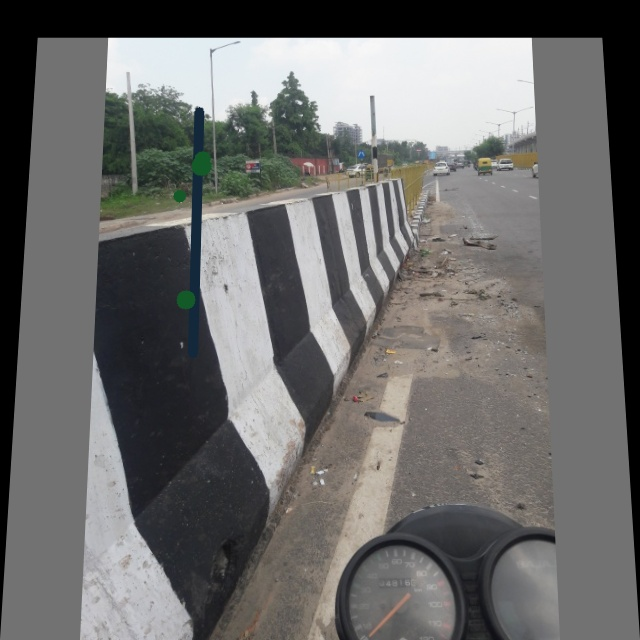Pass_Either_Side: (355, 147, 364, 156)
